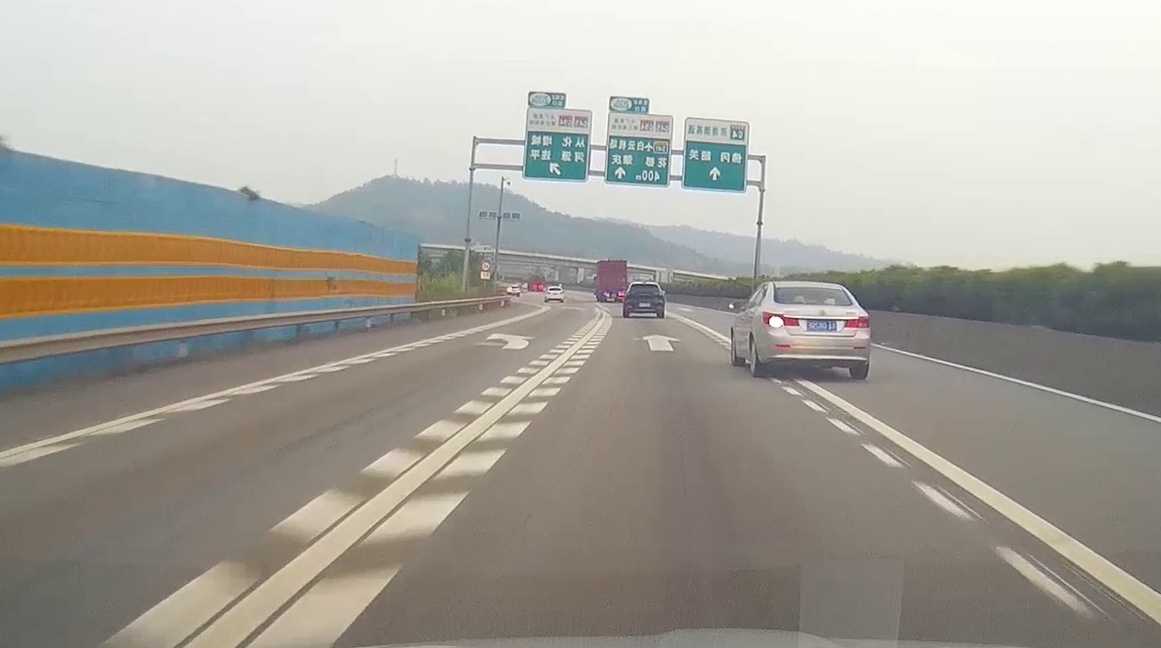L_light: (762, 311, 799, 327)
R_light: (844, 314, 870, 328)
T_light: (804, 286, 818, 289)
day-left: (759, 281, 872, 380)
